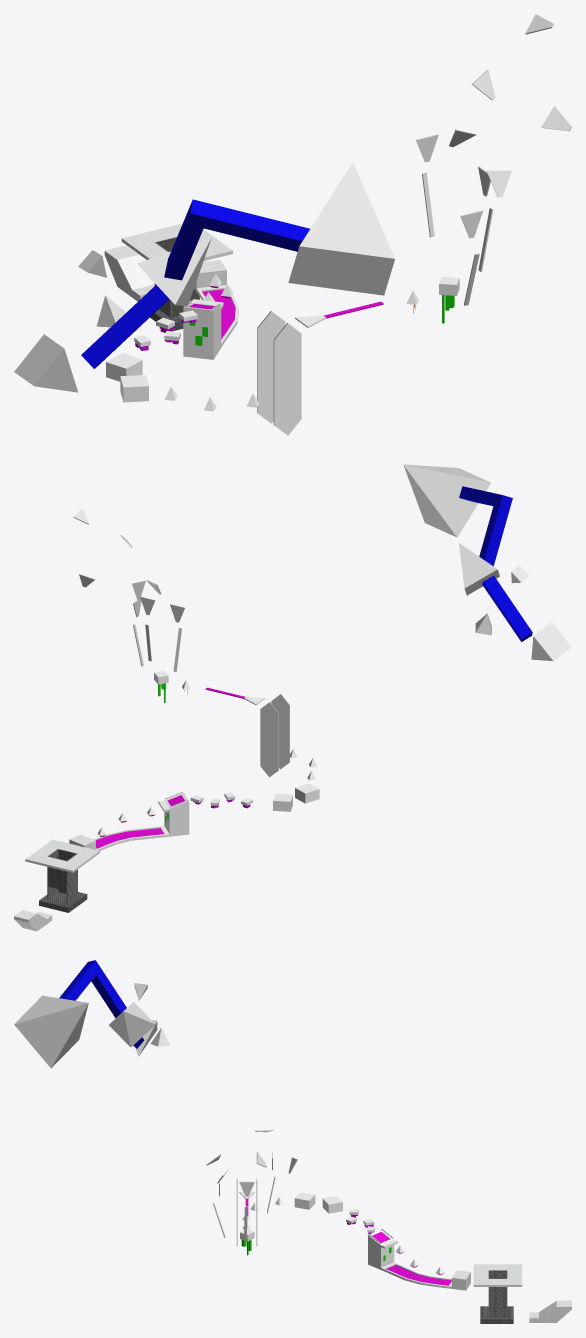
Rendered from SLEDGE_LevelTwo_2.fbx.
3 views of the same model, one above another, from view 1: azimuth 30°, elevation 25°; view 2: azimuth 150°, elevation 25°; view 3: azimuth 270°, elevation 25° (orthographic). The views are drawn at different scales.
Visible parts, largest first — view 1: MidLevelArtPass.001, Cube.006, Cube__4__1, MidLevelArtPass.002, MidLevelArtPass.005, Cube.007, Cube__8_, MidLevelArtPass.003, Cube__5__1, Cube__1_, Cube__9_, MidLevelArtPass.007 (+5 smaller); view 2: MidLevelArtPass.001, Cube.006, Cube__5__1, Cube.007, MidLevelArtPass.003, MidLevelArtPass.005, Cube__8_, MidLevelArtPass.002, Cube__9_, Cube__4__1, Cube__2_; view 3: MidLevelArtPass.001, Cube.006, MidLevelArtPass.003, Cube__8_, Cube__9_, Cube__1_, Cube__1__1, MidLevelArtPass.002.
Boxes of the visible parts, x1,y1,x2,y2 form: MidLevelArtPass.001: (288,162,394,295); Cube.006: (164,199,309,280); Cube__4__1: (273,323,301,435); MidLevelArtPass.002: (416,14,571,238); MidLevelArtPass.005: (14,334,78,392); Cube.007: (81,285,168,368); Cube__8_: (183,299,223,359); MidLevelArtPass.003: (137,236,211,306); Cube__5__1: (257,311,285,423); Cube__1_: (104,245,154,301); Cube__9_: (196,285,238,346); MidLevelArtPass.007: (422,172,493,305); MidLevelArtPass.001: (403,464,490,537); Cube.006: (459,486,512,566); Cube__5__1: (260,702,278,777); Cube.007: (482,576,532,641); MidLevelArtPass.003: (459,543,499,595); MidLevelArtPass.005: (531,622,571,661); Cube__8_: (158,793,189,836); MidLevelArtPass.002: (73,509,184,622); Cube__9_: (93,826,171,850); Cube__4__1: (271,694,289,769); Cube__2_: (39,892,87,912); MidLevelArtPass.001: (14,995,88,1068); Cube.006: (59,960,126,1018); MidLevelArtPass.003: (109,1002,155,1047); Cube__8_: (368,1229,397,1269); Cube__9_: (381,1262,451,1288); Cube__1_: (529,1300,571,1322); Cube__1__1: (488,1278,507,1317); MidLevelArtPass.002: (206,1129,297,1196).
Size of the model in its own units: 481 by 329 by 620.
